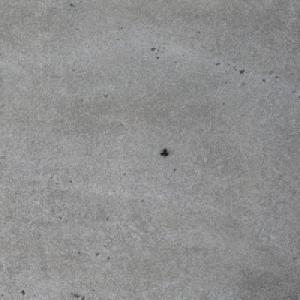BoltWasher: (159, 148, 168, 156)
